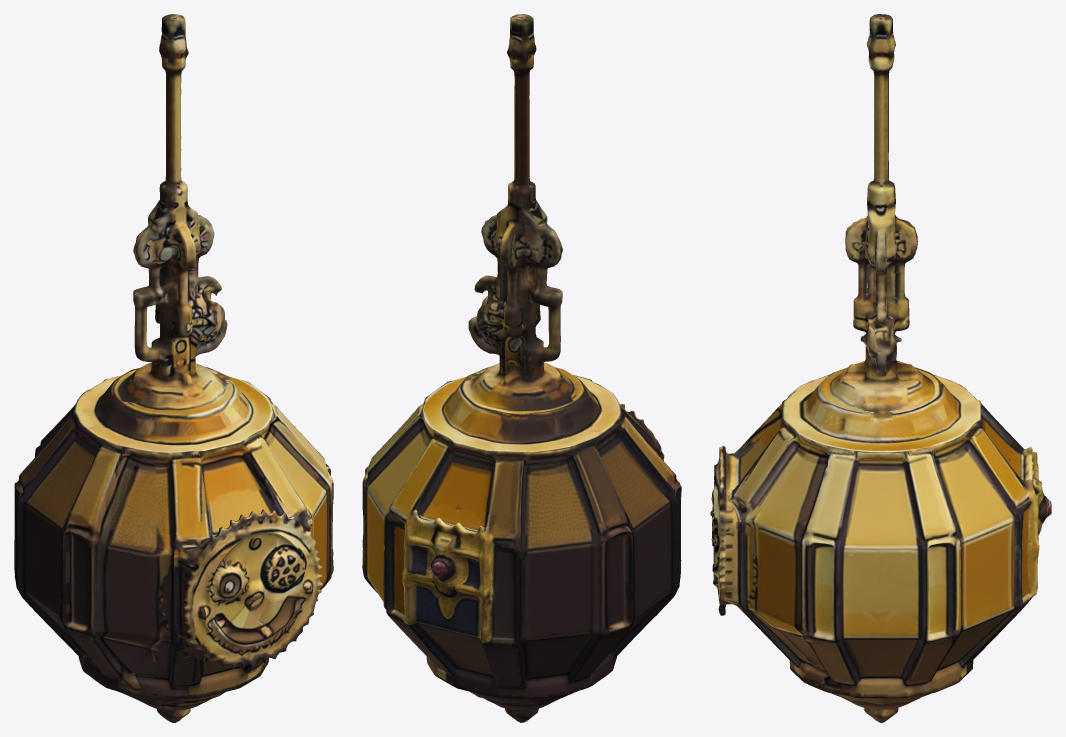
The model's file is Grand_Pendulum.glb.
3 renders of one model, left to right at view 1: azimuth 30°, elevation 25°; view 2: azimuth 150°, elevation 25°; view 3: azimuth 270°, elevation 25°, orthographic.
Parts seen in each view (by area): view 1: MechanicalPendant; view 2: MechanicalPendant; view 3: MechanicalPendant.
Boxes of the visible parts, left/top/right/bottom form: MechanicalPendant: left=14, top=14, right=333, bottom=722; MechanicalPendant: left=362, top=14, right=681, bottom=722; MechanicalPendant: left=710, top=14, right=1051, bottom=722.
Size of the model in its own units: 0.2816 by 0.7 by 0.3079.
Materials: 1 (1 with a texture image).
